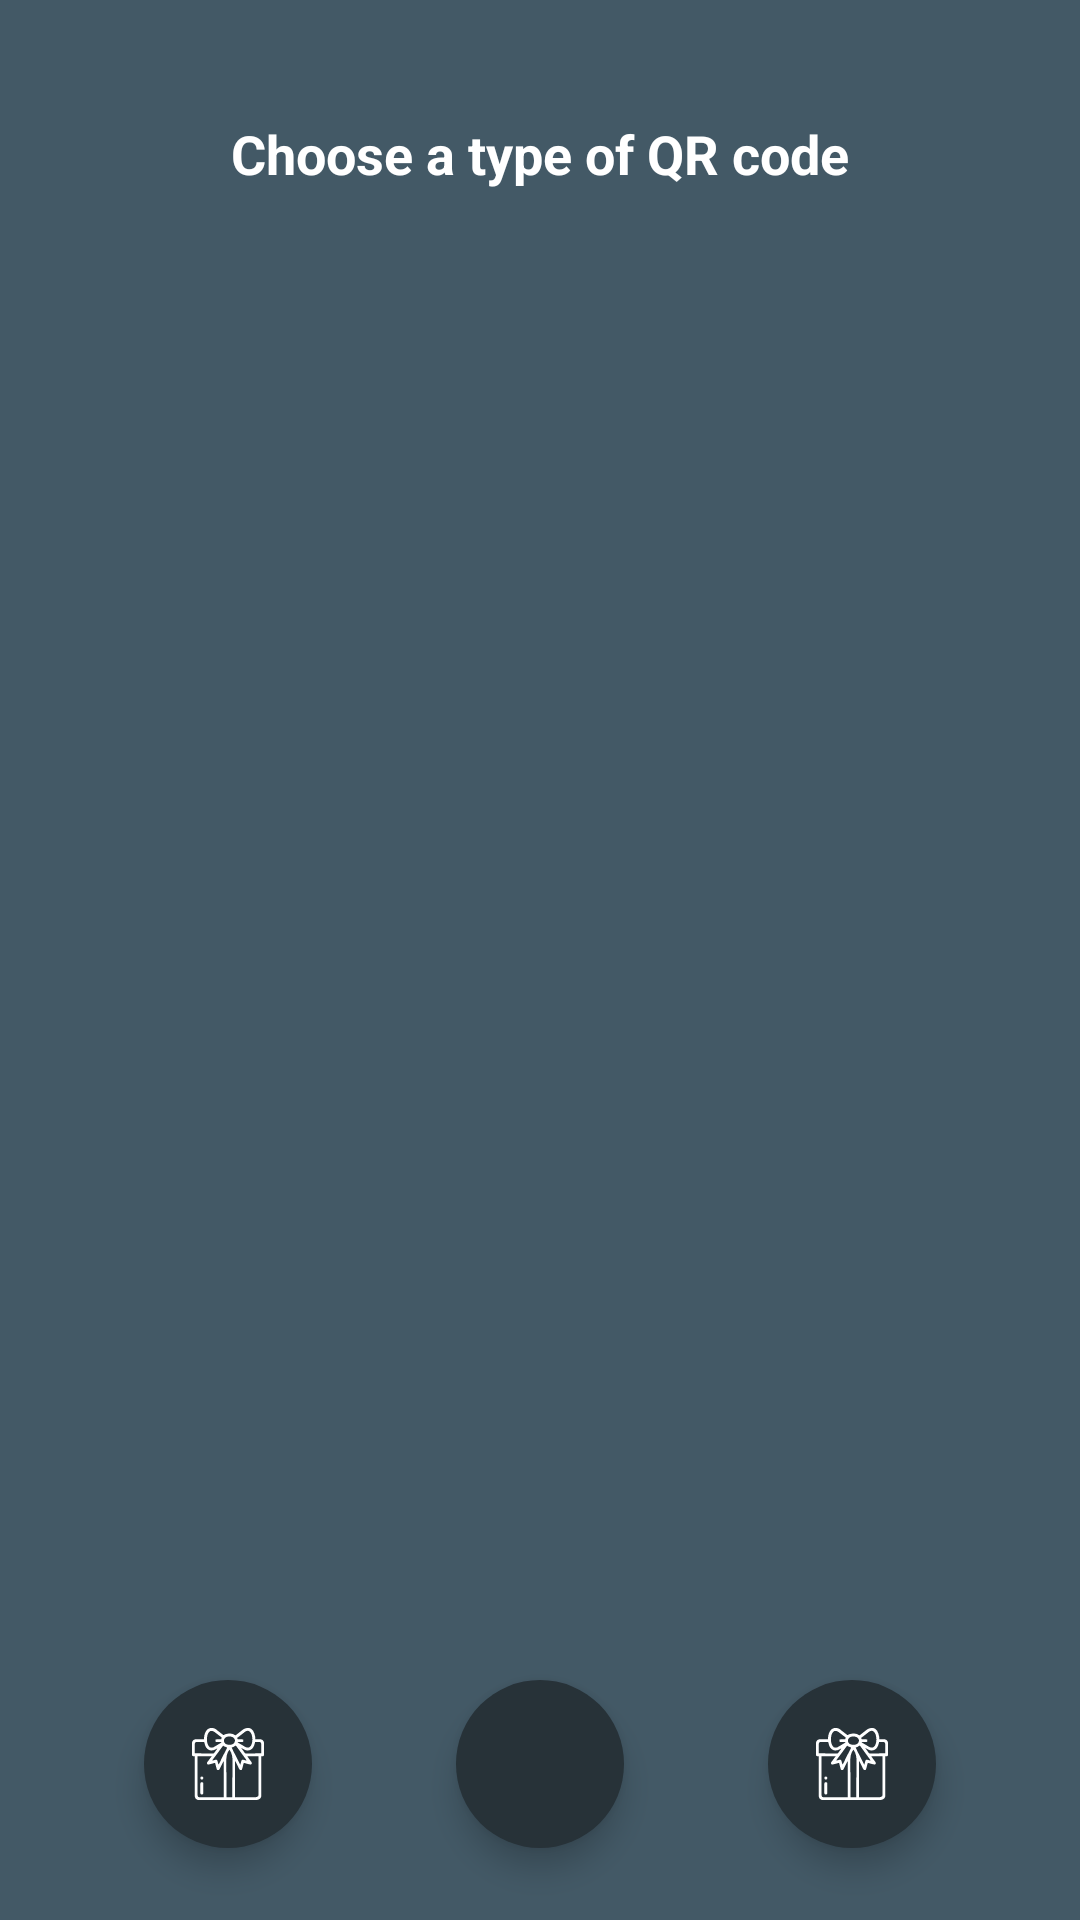

Where to tap for icons on this 1080px x 1920px app screen, as (x=x, y=y):
gift box: (x=228, y=1764), (x=852, y=1764)
